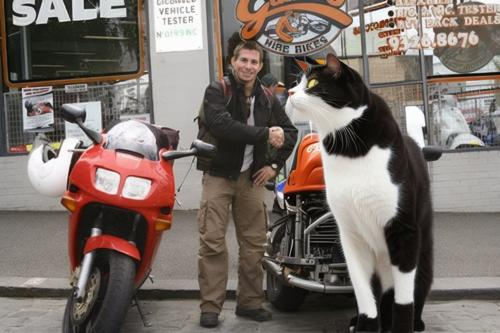cat: (283, 55, 433, 330)
motorbike: (265, 121, 443, 333), (59, 105, 217, 333), (432, 95, 487, 150)
person: (196, 40, 290, 330)
person/foot: (234, 308, 273, 321), (199, 313, 219, 327)
person/hand: (253, 167, 276, 187), (270, 127, 287, 145)
person/head: (232, 42, 263, 83)
